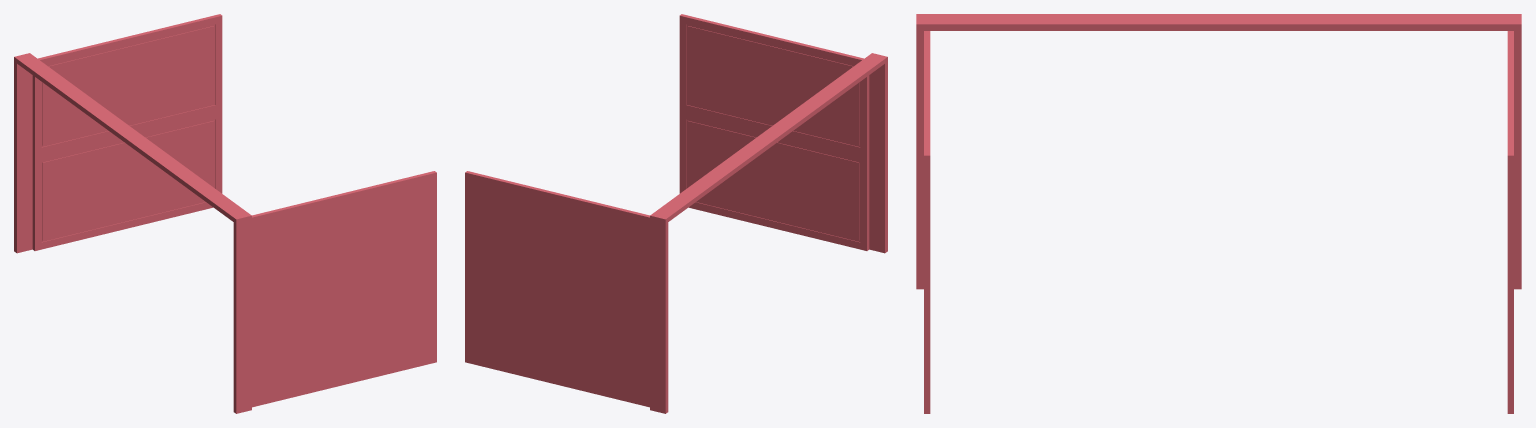
3 renders of one model, left to right at view 1: azimuth 30°, elevation 25°; view 2: azimuth 150°, elevation 25°; view 3: azimuth 270°, elevation 25°, orthographic. The views are drawn at different scales.
Parts seen in each view (by area): view 1: Cube.069; view 2: Cube.069; view 3: Cube.069.
Boxes of the visible parts, box(x1,y1,x2,y2) form: Cube.069: box(14, 14, 436, 413); Cube.069: box(465, 14, 887, 413); Cube.069: box(916, 14, 1521, 413).
Size of the model in its own units: 565 by 516 by 1069.
